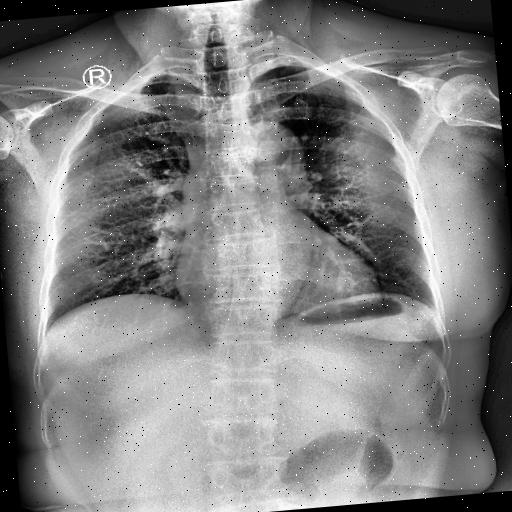0- Aortic enlargement: (168, 108, 324, 192), (188, 119, 318, 199), (188, 120, 308, 176)
2- Calcification: (127, 158, 147, 170)
7- Lung Opacity: (164, 64, 210, 162)
